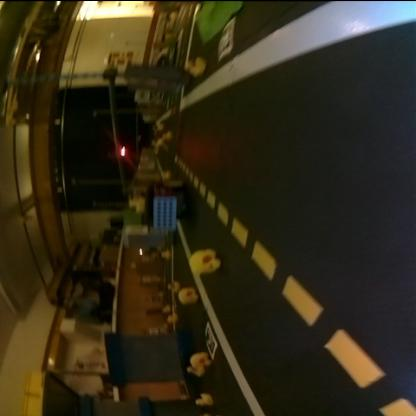Duckie: (189, 249, 219, 274), (184, 57, 204, 76), (178, 288, 198, 304), (190, 352, 208, 368), (127, 196, 143, 212), (194, 393, 212, 407), (186, 366, 204, 376), (166, 282, 178, 292), (160, 249, 170, 259), (166, 314, 176, 322), (162, 131, 172, 139)
Duckiebot: (146, 182, 186, 230)
QR code: (218, 18, 234, 58), (203, 322, 217, 359)
